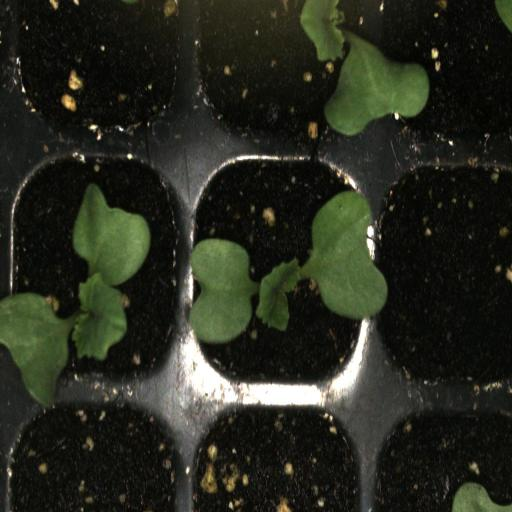noseedling: (376, 147, 512, 392), (8, 0, 193, 145)
seedling: (4, 147, 193, 392), (190, 146, 374, 395)
